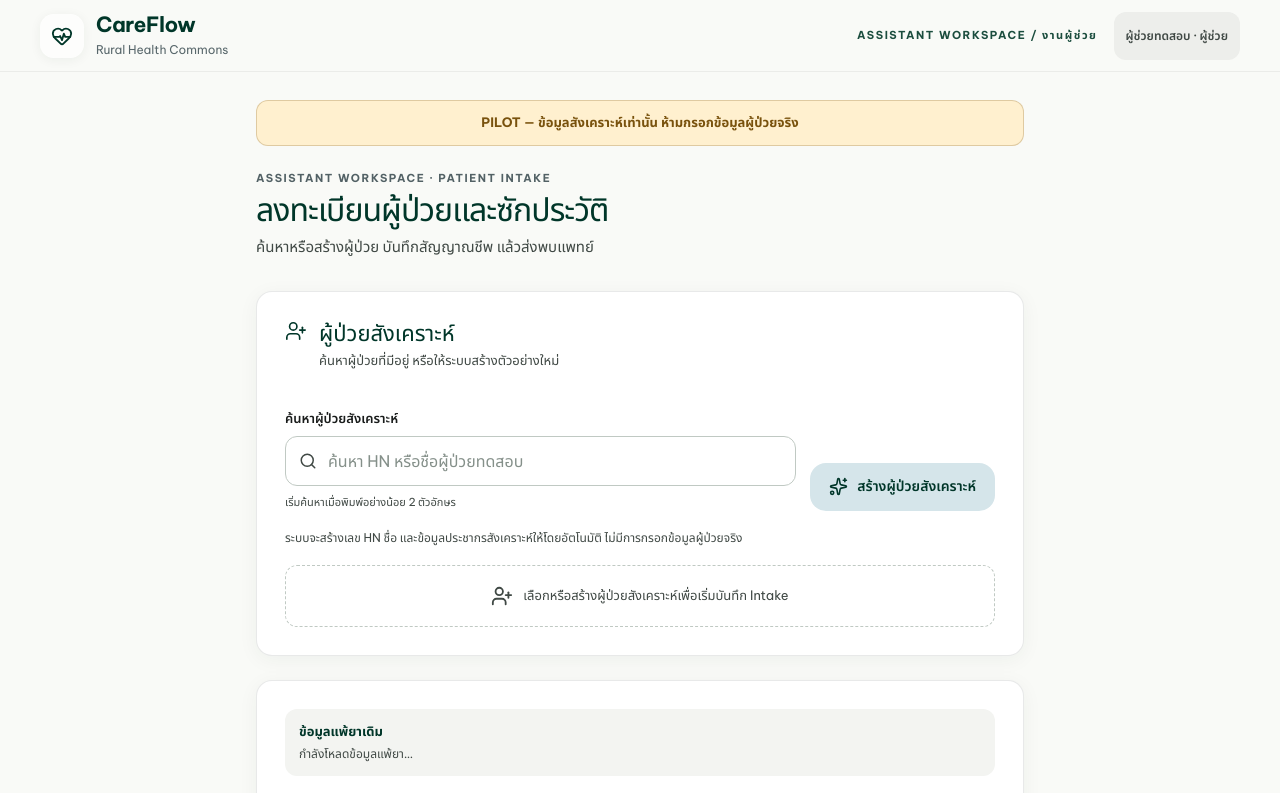
Test: connected Intake journey › requires a loaded, explicitly selected Allergy answer before Intake can be sent
Type "000123" into the field at (541, 461), box [285,436,796,486]
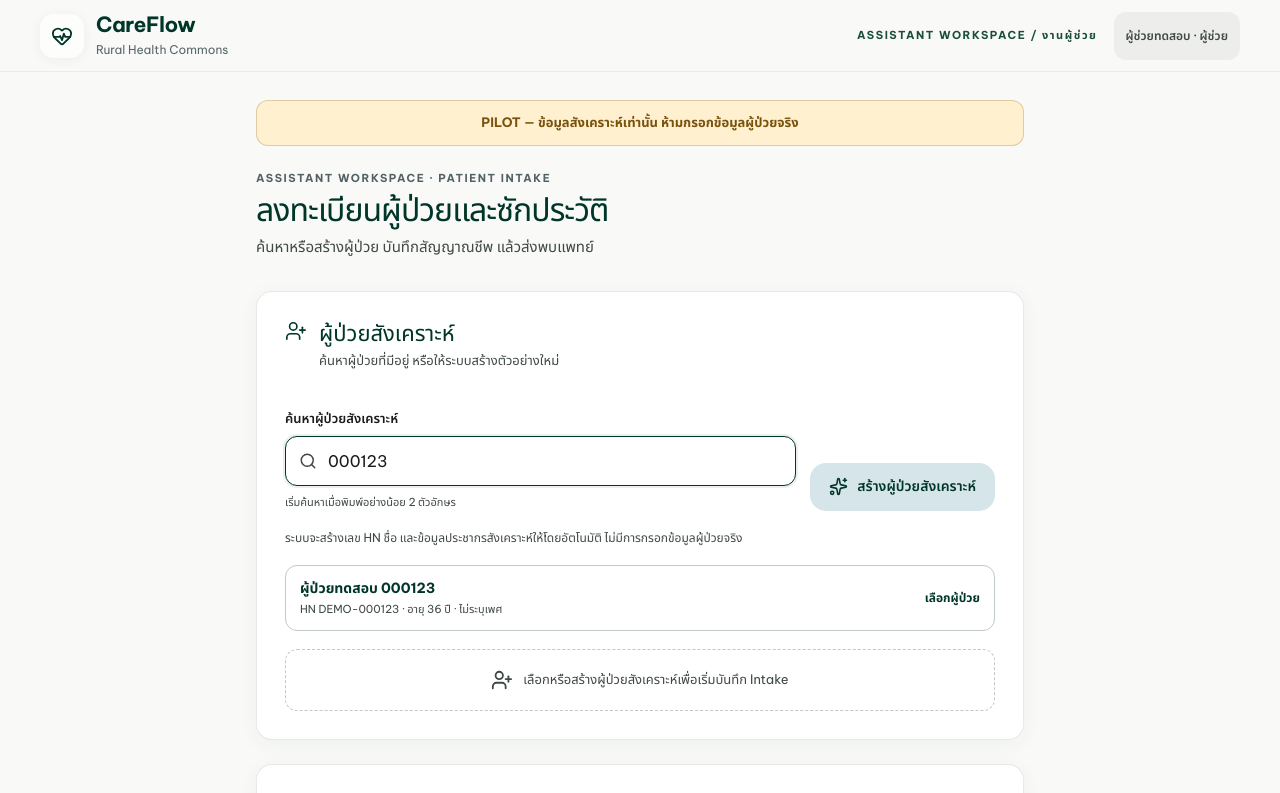
Expected: the text "ผู้ป่วยทดสอบ 000123" is shown, [300,579,435,597]
Click the button "เลือกผู้ป่วย" at (368, 588), box [286,566,994,630]
(page scrolled)
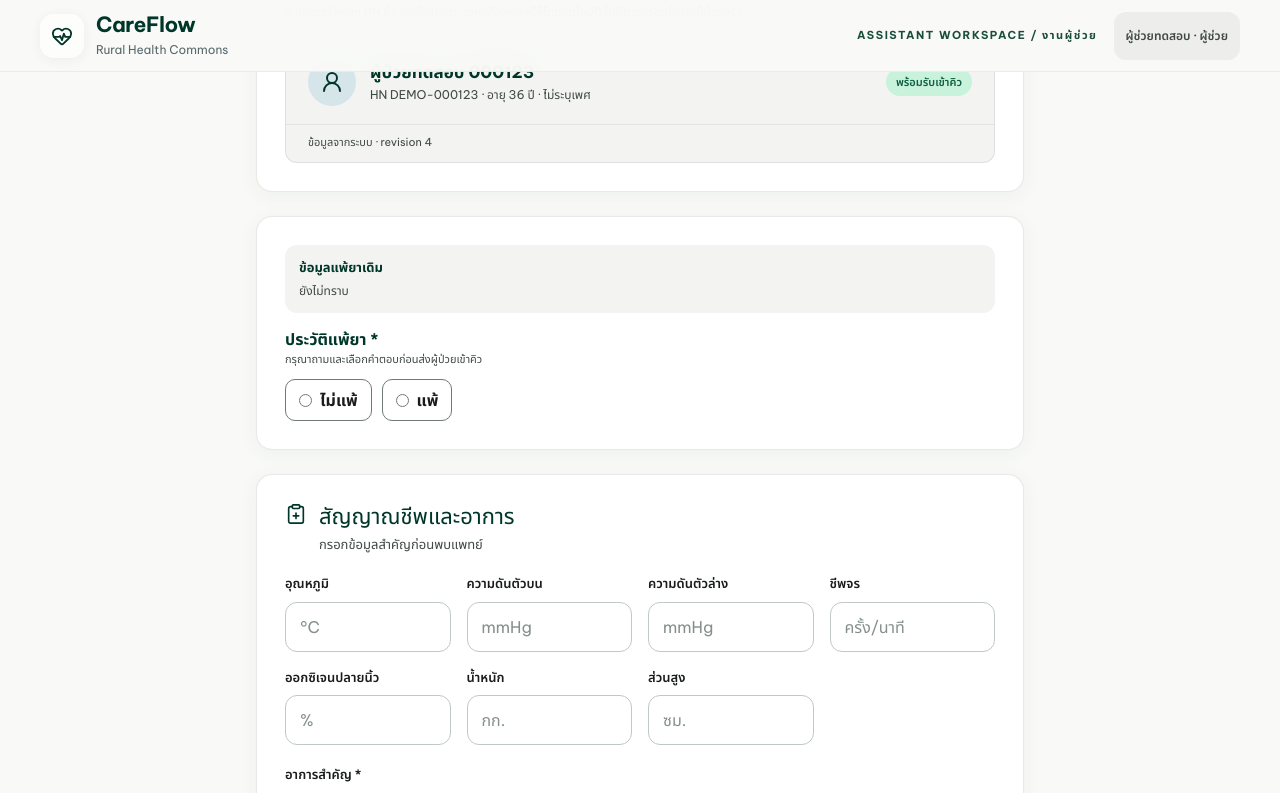
Expected: the radio button labelled "แพ้" is not checked, [396,394,409,407]
Click the radio button labelled "ไม่แพ้" at (306, 400), box [299,394,312,407]
(page scrolled)
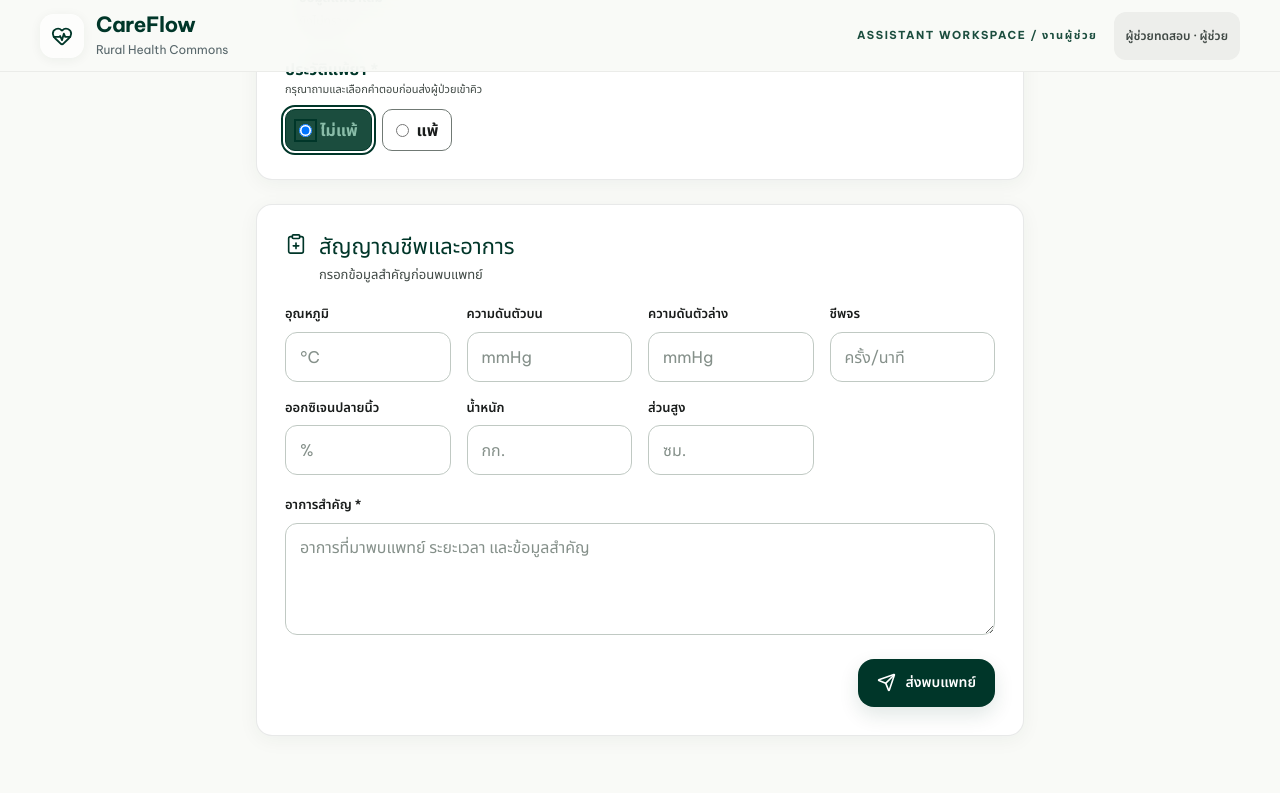
Expected: the button "ส่งพบแพทย์" is enabled, [858,659,995,707]
